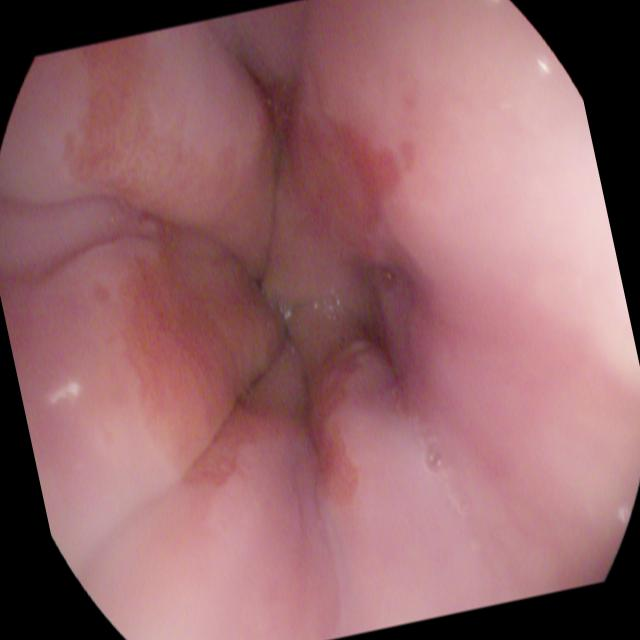esophagitis: (36, 33, 457, 521)
